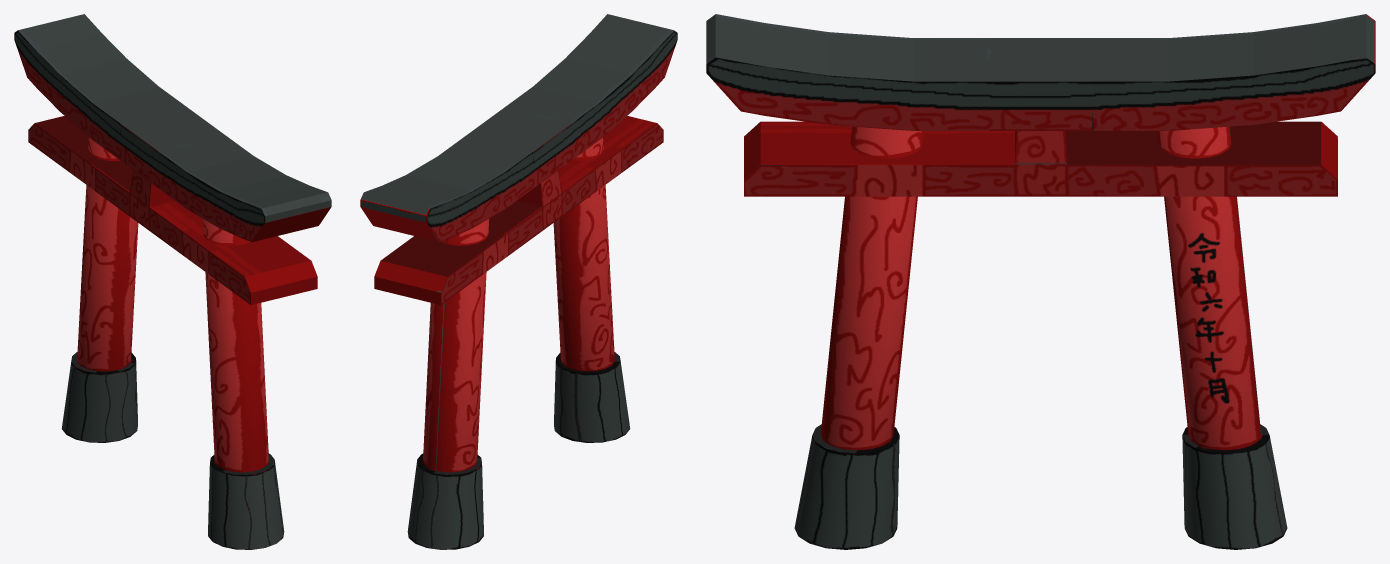
The model's file is arch.glb.
3 views of the same model, side by side, from view 1: azimuth 30°, elevation 25°; view 2: azimuth 150°, elevation 25°; view 3: azimuth 270°, elevation 25° (orthographic). The views are drawn at different scales.
Visible parts, largest first — view 1: Cube; view 2: Cube; view 3: Cube.
Part boxes in pixels (x1,y1,x2,y2): Cube: (14,14,331,549); Cube: (360,14,677,549); Cube: (706,14,1375,549).
Size of the model in its own units: 2 by 10.56 by 13.01.
Materials: 1 (1 with a texture image).
